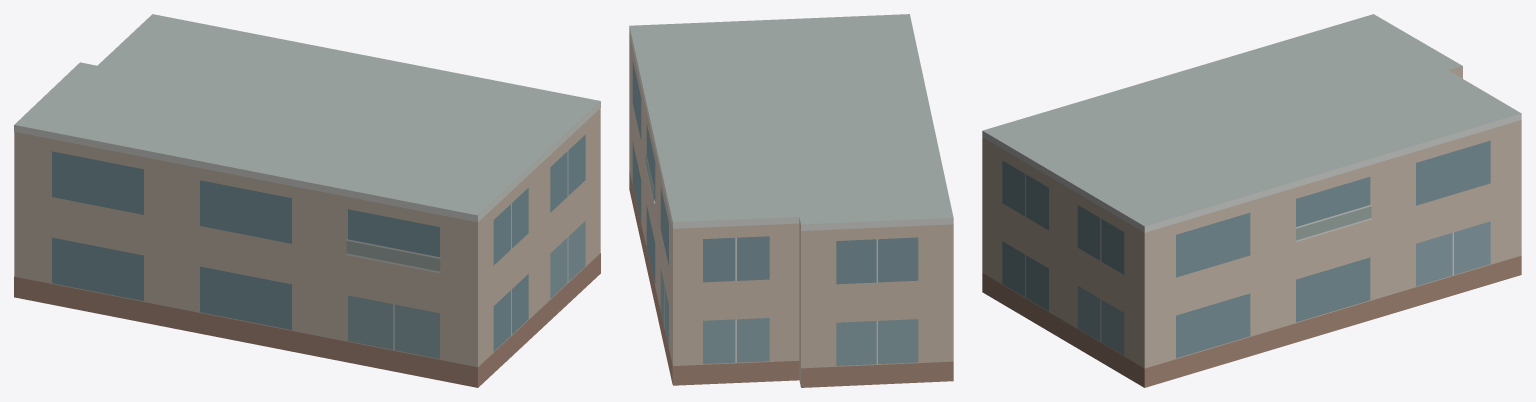
Rendered from survey-upis-32689354.glb.
The picture shows the model from 3 angles, left to right: view 1: azimuth 30°, elevation 25°; view 2: azimuth 150°, elevation 25°; view 3: azimuth 270°, elevation 25°; orthographic projection. The views are drawn at different scales.
Visible parts, largest first — view 1: survey-upis-32689354.tmp; view 2: survey-upis-32689354.tmp; view 3: survey-upis-32689354.tmp.
Part boxes in pixels (left/top/right/bottom): survey-upis-32689354.tmp: left=14, top=14, right=600, bottom=387; survey-upis-32689354.tmp: left=629, top=14, right=953, bottom=387; survey-upis-32689354.tmp: left=982, top=14, right=1521, bottom=387.
Bounding box in the file's own units: 17.21 × 6.1 × 18.46.
